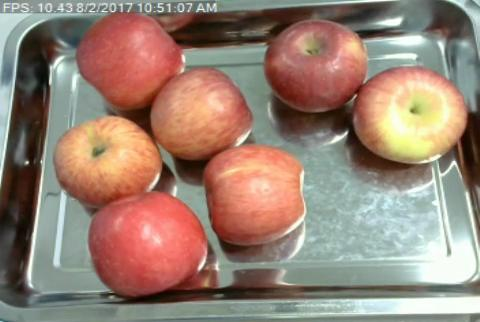apple: (89, 191, 208, 296), (354, 66, 466, 164), (203, 147, 307, 246), (77, 13, 185, 108), (264, 18, 367, 108), (152, 67, 252, 158), (55, 117, 159, 203)
